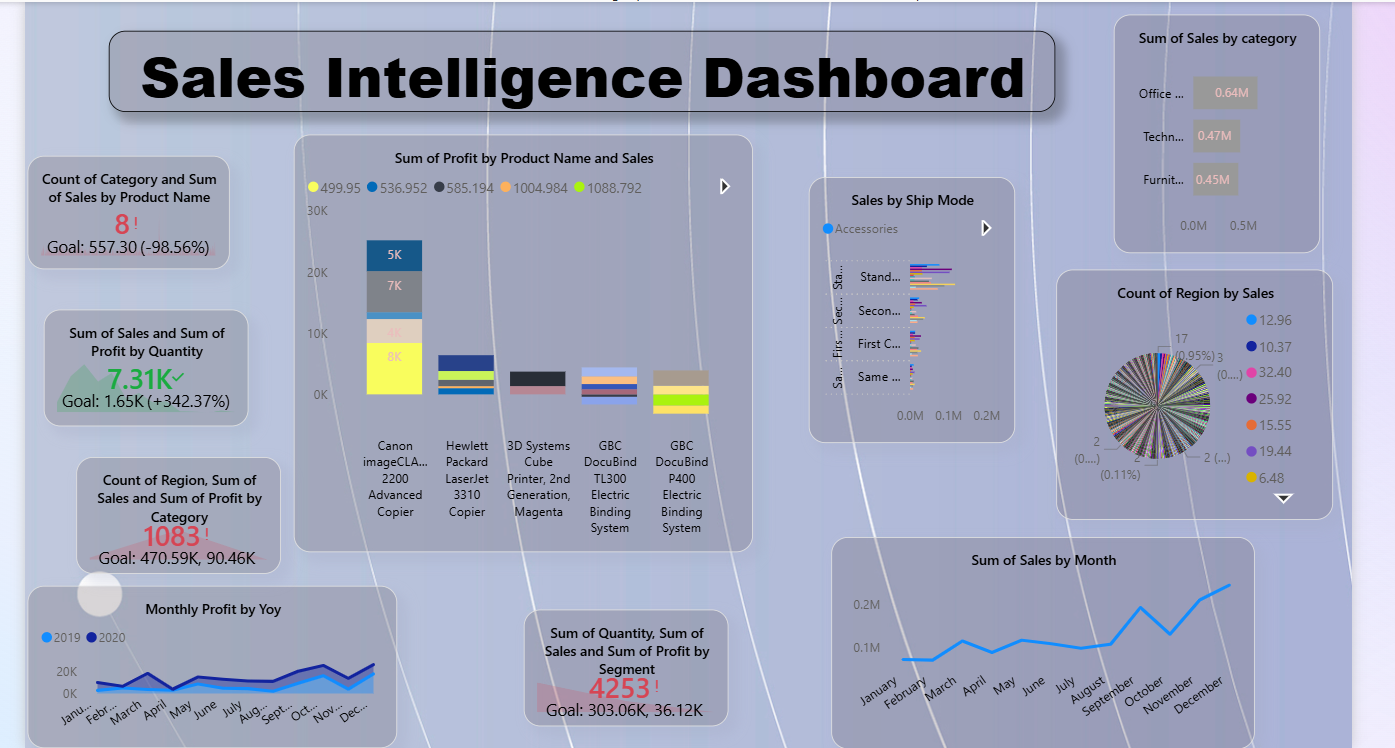

Layout of this report page (visuals, bound fields, positions):
{"tool":"powerbi","page":{"name":"Page 1","canvas":[1280,720],"ordinal":0},"visuals":[{"type":"clusteredBarChart","title":"Sum of Sales by category","fields":{"Category":["SuperStore_Sales_Dataset.Category"],"Y":["Sum(SuperStore_Sales_Dataset.Sales)"]},"box":[1051.1,12.3,199,230.5],"z":0},{"type":"clusteredBarChart","title":"Sales by Ship Mode","fields":{"Category":["SuperStore_Sales_Dataset.Ship Mode","SuperStore_Sales_Dataset.Ship Mode","SuperStore_Sales_Dataset.Category"],"Y":["Sum(SuperStore_Sales_Dataset.Sales)"],"Series":["SuperStore_Sales_Dataset.Sub-Category"]},"box":[756.1,168.8,199,256.6],"z":1000},{"type":"stackedAreaChart","title":"Monthly Profit by Yoy","fields":{"Category":["SuperStore_Sales_Dataset.Order Date.Variation.Date Hierarchy.Month","SuperStore_Sales_Dataset.Order Date.Variation.Date Hierarchy.Day"],"Series":["SuperStore_Sales_Dataset.Order Date.Variation.Date Hierarchy.Year"],"Y":["Sum(SuperStore_Sales_Dataset.Profit)"]},"box":[2.7,564,356.8,156.4],"z":2000},{"type":"kpi","fields":{"Indicator":["Sum(SuperStore_Sales_Dataset.Sales)"],"Goal":["Sum(SuperStore_Sales_Dataset.Profit)"],"TrendLine":["SuperStore_Sales_Dataset.Quantity"]},"box":[17.8,296.4,197.6,112.5],"z":3000},{"type":"kpi","fields":{"Indicator":["CountNonNull(SuperStore_Sales_Dataset.Category)"],"TrendLine":["SuperStore_Sales_Dataset.Product Name"],"Goal":["Sum(SuperStore_Sales_Dataset.Sales)"]},"box":[2.7,148.2,194.9,109.8],"z":4000},{"type":"kpi","fields":{"Goal":["Sum(SuperStore_Sales_Dataset.Sales)","Sum(SuperStore_Sales_Dataset.Profit)"],"Indicator":["CountNonNull(SuperStore_Sales_Dataset.Region)"],"TrendLine":["SuperStore_Sales_Dataset.Category"]},"box":[49.4,439.1,197.6,112.5],"z":5000},{"type":"kpi","fields":{"Goal":["Sum(SuperStore_Sales_Dataset.Sales)","Sum(SuperStore_Sales_Dataset.Profit)"],"Indicator":["Sum(SuperStore_Sales_Dataset.Quantity)"],"TrendLine":["SuperStore_Sales_Dataset.Segment"]},"box":[481.6,585.9,197.6,112.5],"z":6000},{"type":"lineChart","fields":{"Category":["SuperStore_Sales_Dataset.Order Date.Variation.Date Hierarchy.Month"],"Y":["Sum(SuperStore_Sales_Dataset.Sales)"]},"box":[778,516,408.9,204.5],"z":7000},{"type":"pieChart","fields":{"Category":["SuperStore_Sales_Dataset.Sales"],"Y":["CountNonNull(SuperStore_Sales_Dataset.Region)"]},"box":[994.9,258,267.6,241.5],"z":8000},{"type":"columnChart","fields":{"Category":["SuperStore_Sales_Dataset.Product Name"],"Y":["Sum(SuperStore_Sales_Dataset.Profit)"],"Series":["SuperStore_Sales_Dataset.Sales"]},"box":[259.3,127.6,443.2,403.4],"z":9000},{"type":"shape","title":"Sales Intelligence Dashboard","box":[81,27.4,913.9,78.2],"z":10000}]}

Visuals, with their boxes on the page's 1280x720 design canvas (x1, y1, x2, y2). These are canvas units, not pixel positions in the 1395x748 screenshot, which may show the page scaled, cropped or inside an application window:
"Sum of Sales by category" clusteredBarChart: (1051,12,1250,243)
"Sales by Ship Mode" clusteredBarChart: (756,169,955,425)
"Monthly Profit by Yoy" stackedAreaChart: (3,564,360,720)
kpi - Sum(SuperStore_Sales_Dataset.Sales) x Sum(SuperStore_Sales_Dataset.Profit): (18,296,215,409)
kpi - CountNonNull(SuperStore_Sales_Dataset.Category) x SuperStore_Sales_Dataset.Product Name: (3,148,198,258)
kpi - Sum(SuperStore_Sales_Dataset.Sales) x Sum(SuperStore_Sales_Dataset.Profit): (49,439,247,552)
kpi - Sum(SuperStore_Sales_Dataset.Sales) x Sum(SuperStore_Sales_Dataset.Profit): (482,586,679,698)
lineChart - SuperStore_Sales_Dataset.Order Date.Variation.Date Hierarchy.Month x Sum(SuperStore_Sales_Dataset.Sales): (778,516,1187,720)
pieChart - SuperStore_Sales_Dataset.Sales x CountNonNull(SuperStore_Sales_Dataset.Region): (995,258,1262,500)
columnChart - SuperStore_Sales_Dataset.Product Name x Sum(SuperStore_Sales_Dataset.Profit): (259,128,702,531)
"Sales Intelligence Dashboard" shape: (81,27,995,106)
